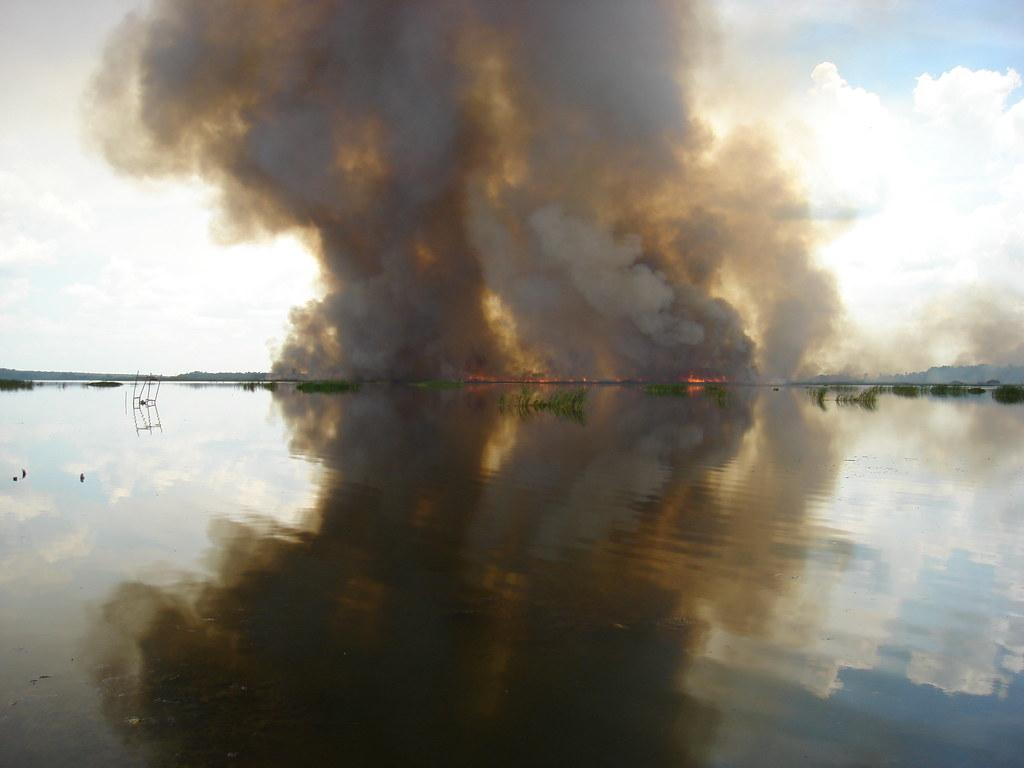smoke: (246, 10, 730, 351)
